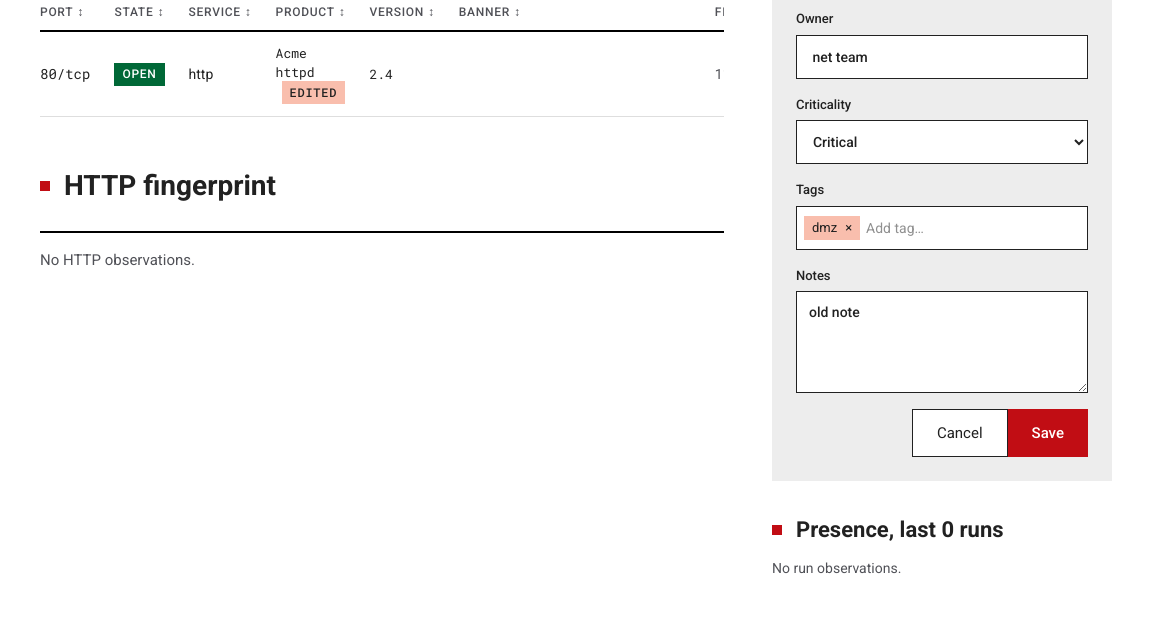
Test: host edit › edits user-owned fields and shows the Dojo sync state and last edited by
Earlier steps of the test are not shown.
(page scrolled)
Replace the text in the text box labelled "Notes" with "new note" at (942, 342), box [796,291,1088,393]
Type "Lab" into the field labelled "Add tag" at (973, 228), box [866,214,1080,242]
Press Enter in the field named "Add tag", box [866,214,1080,242]
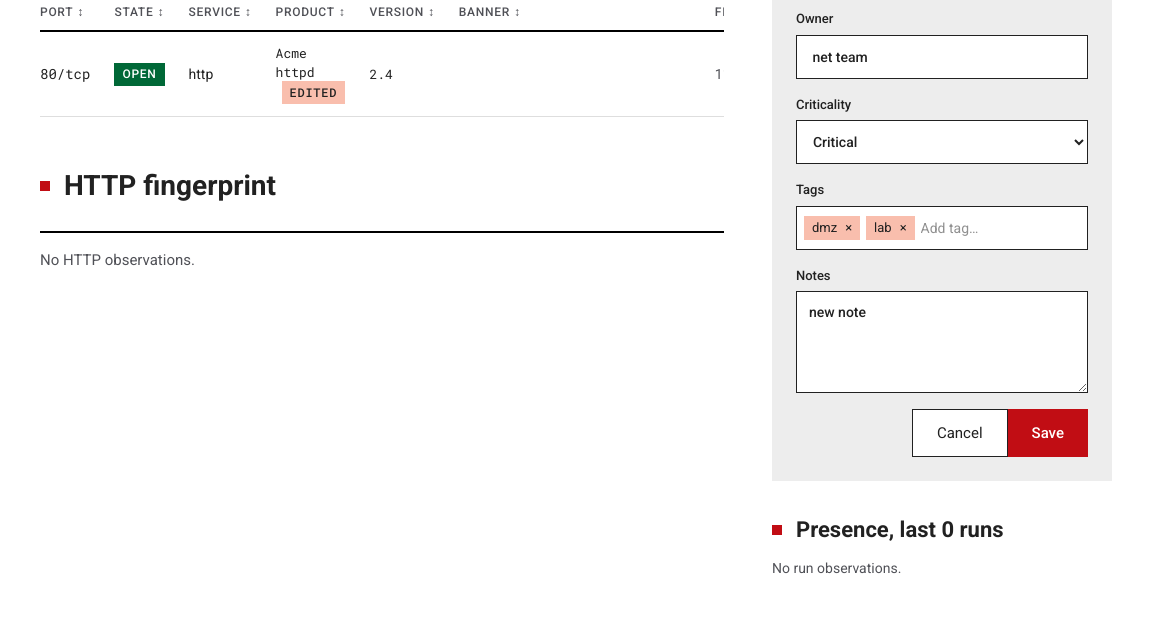
Type "bad tag" into the field labelled "Add tag" at (1000, 228), box [921,214,1080,242]
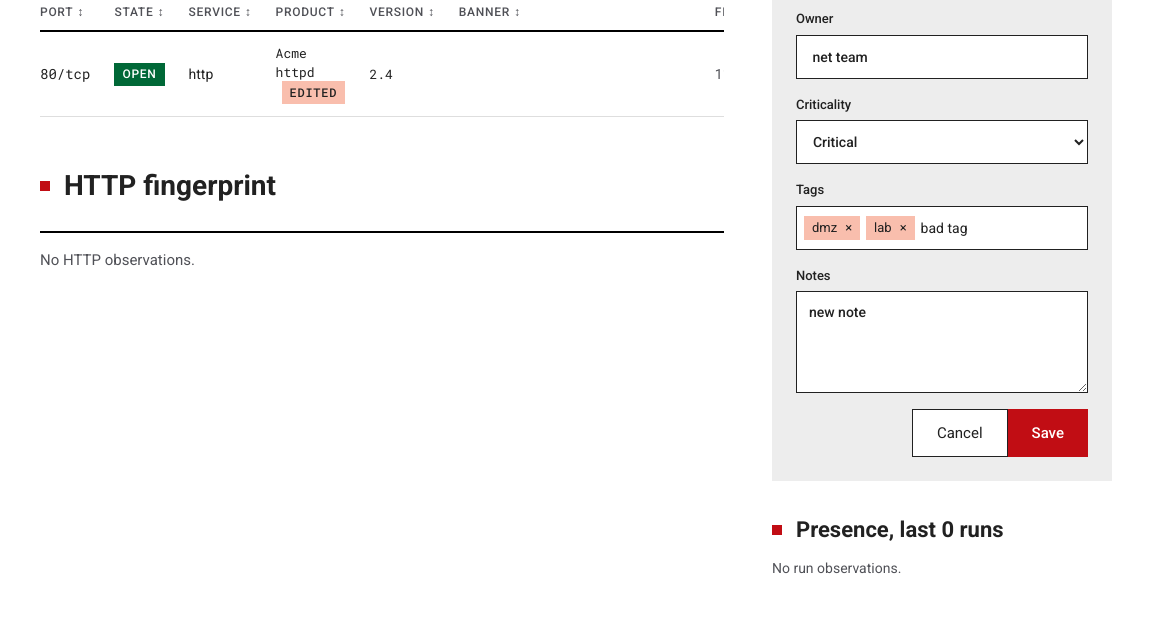
Press Enter in the field named "Add tag", box [921,214,1080,242]
(page scrolled)
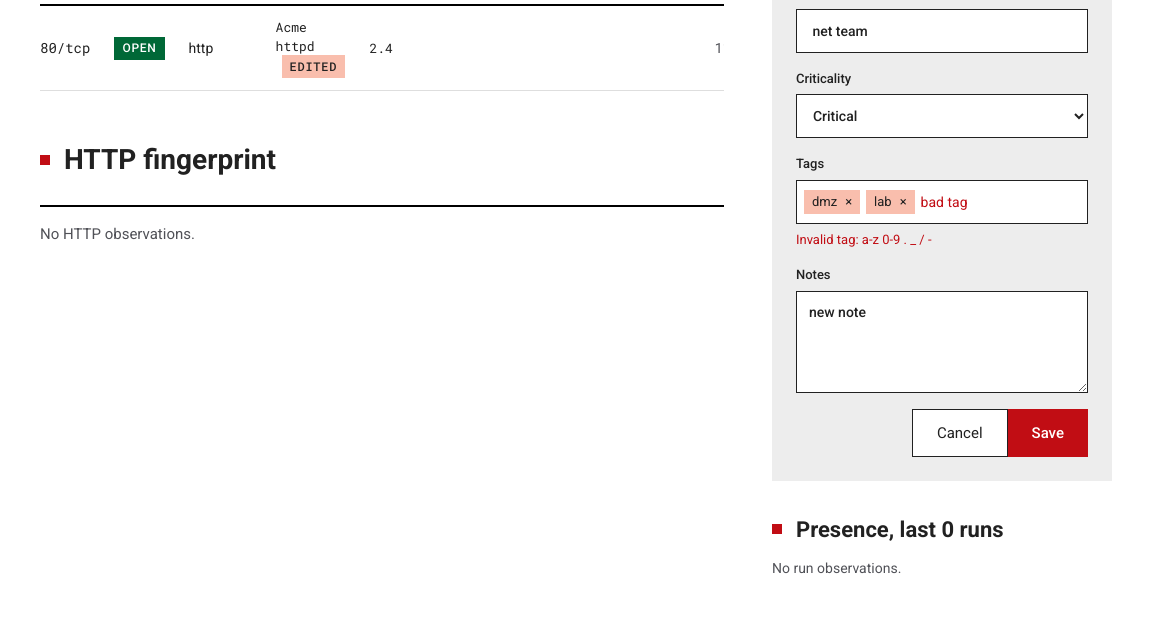
Now the text "Invalid tag: a-z 0-9 . _ / -" is shown, box [796,232,932,247]
Clear the field named "Add tag" at (1000, 202), box [921,188,1080,216]
(page scrolled)
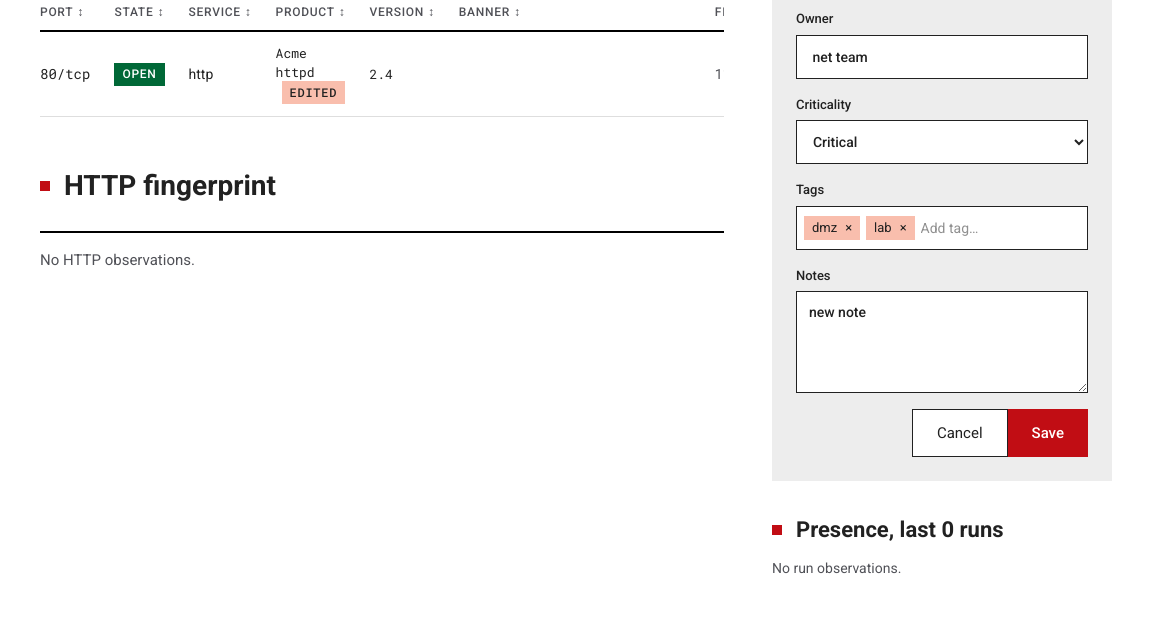
Click the button named "Remove tag dmz" at (849, 228), box [841,218,856,238]
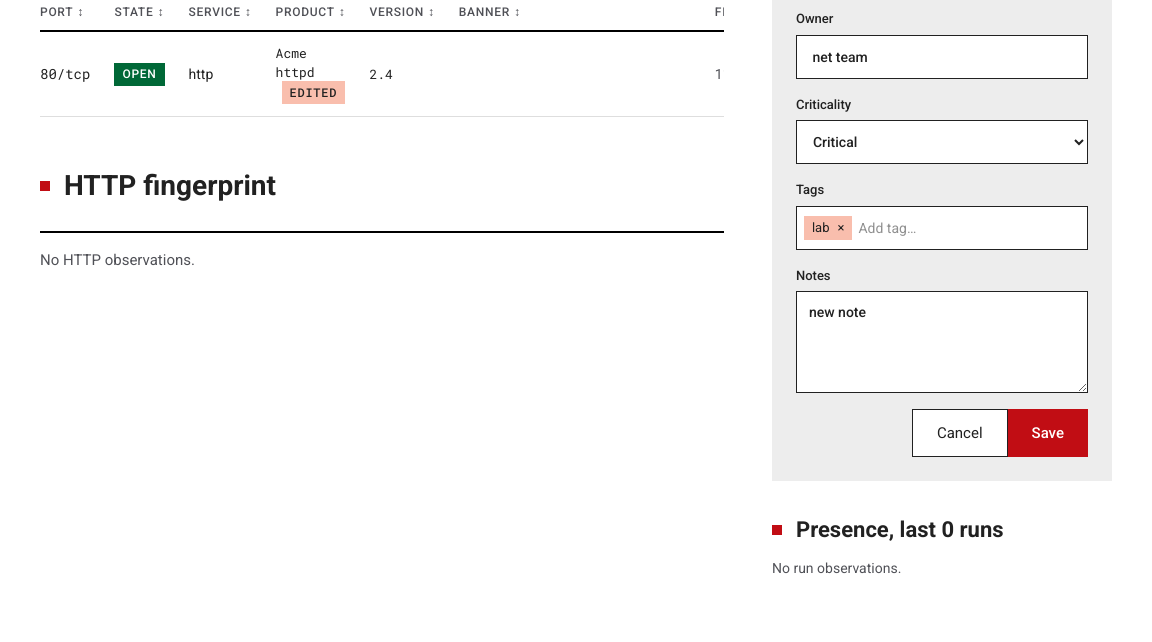
Click the button "Save" at (1048, 433), box [1008,409,1088,457]
(page scrolled)
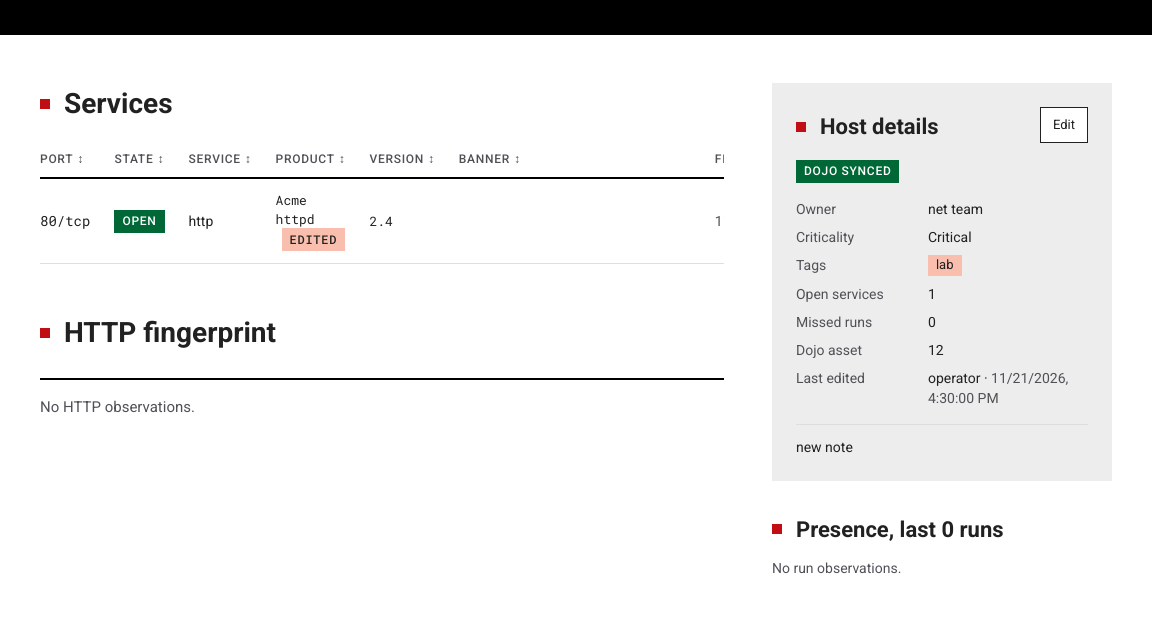
Now the text "Dojo synced" is shown, box [796,160,900,183]
Now the text named "Notes" reads "new note", box [796,439,853,455]
Now the text "net team" is shown, box [928,201,983,217]
